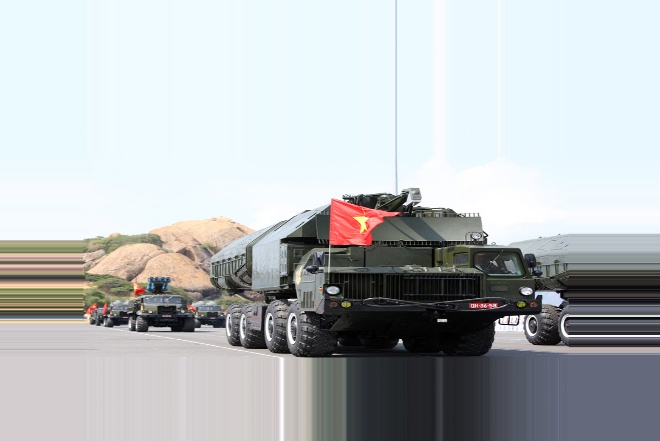plate: (467, 297, 498, 312)
